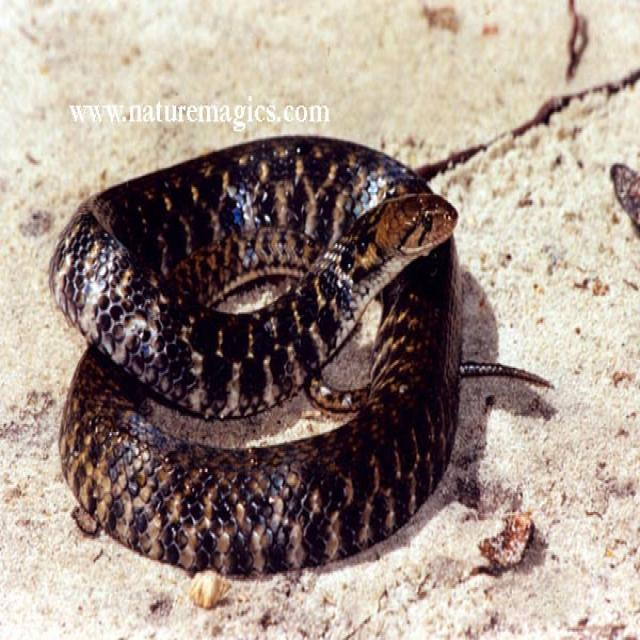Snake: (46, 131, 552, 578)
